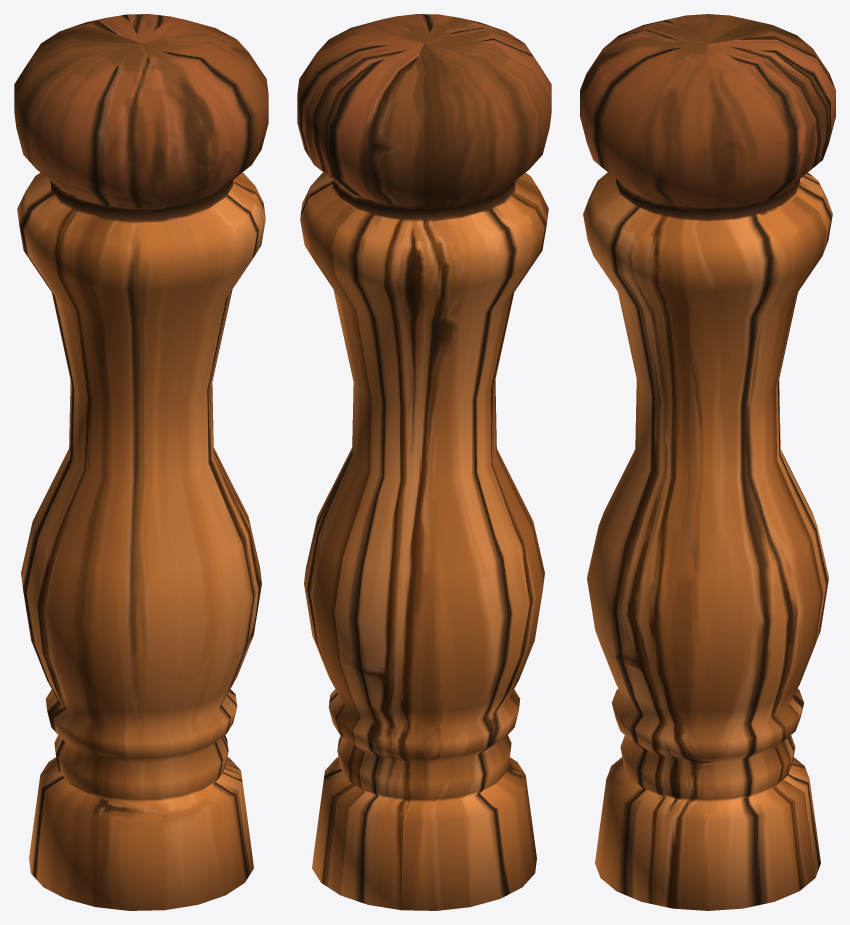
The model's file is pepermolen.fbx.
3 views of the same model, side by side, from view 1: azimuth 30°, elevation 25°; view 2: azimuth 150°, elevation 25°; view 3: azimuth 270°, elevation 25° (orthographic).
Visible parts, largest first — view 1: pCylinder1; view 2: pCylinder1; view 3: pCylinder1.
Part boxes in pixels (x1=…): pCylinder1: x1=14, y1=14, x2=268, y2=910; pCylinder1: x1=297, y1=14, x2=551, y2=910; pCylinder1: x1=580, y1=14, x2=835, y2=910.
Size of the model in its own units: 2.8 by 9.88 by 2.8.
